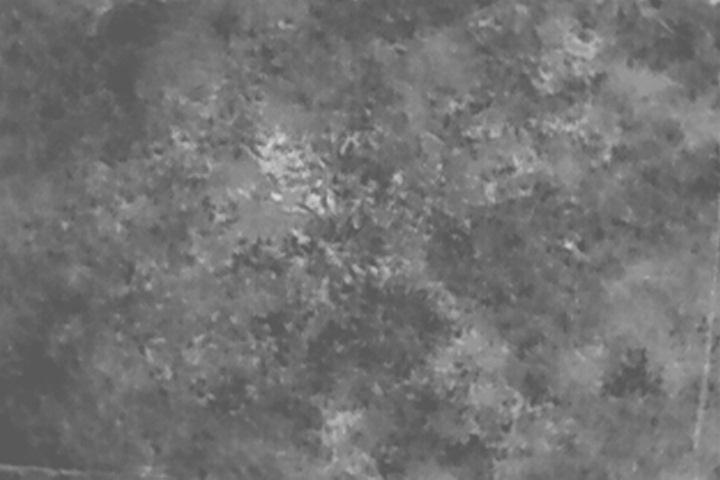landmine: (254, 125, 344, 218)
